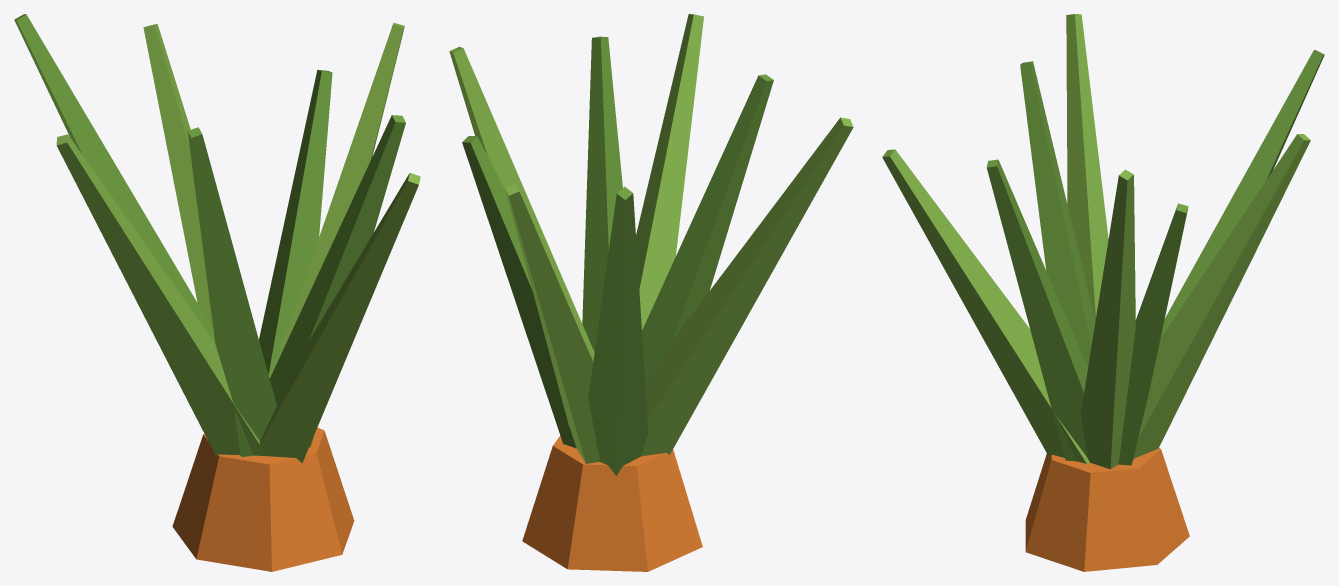
The model's file is crop_carrot_2.glb.
3 views of the same model, side by side, from view 1: azimuth 30°, elevation 25°; view 2: azimuth 150°, elevation 25°; view 3: azimuth 270°, elevation 25° (orthographic). The views are drawn at different scales.
Parts seen in each view (by area): view 1: crop_carrot_2; view 2: crop_carrot_2; view 3: crop_carrot_2.
Part boxes in pixels (x1,y1,x2,y2): crop_carrot_2: (14,14,420,571); crop_carrot_2: (449,14,853,571); crop_carrot_2: (882,14,1324,571).
Bounding box in the file's own units: 0.2098 × 0.2468 × 0.2303.
